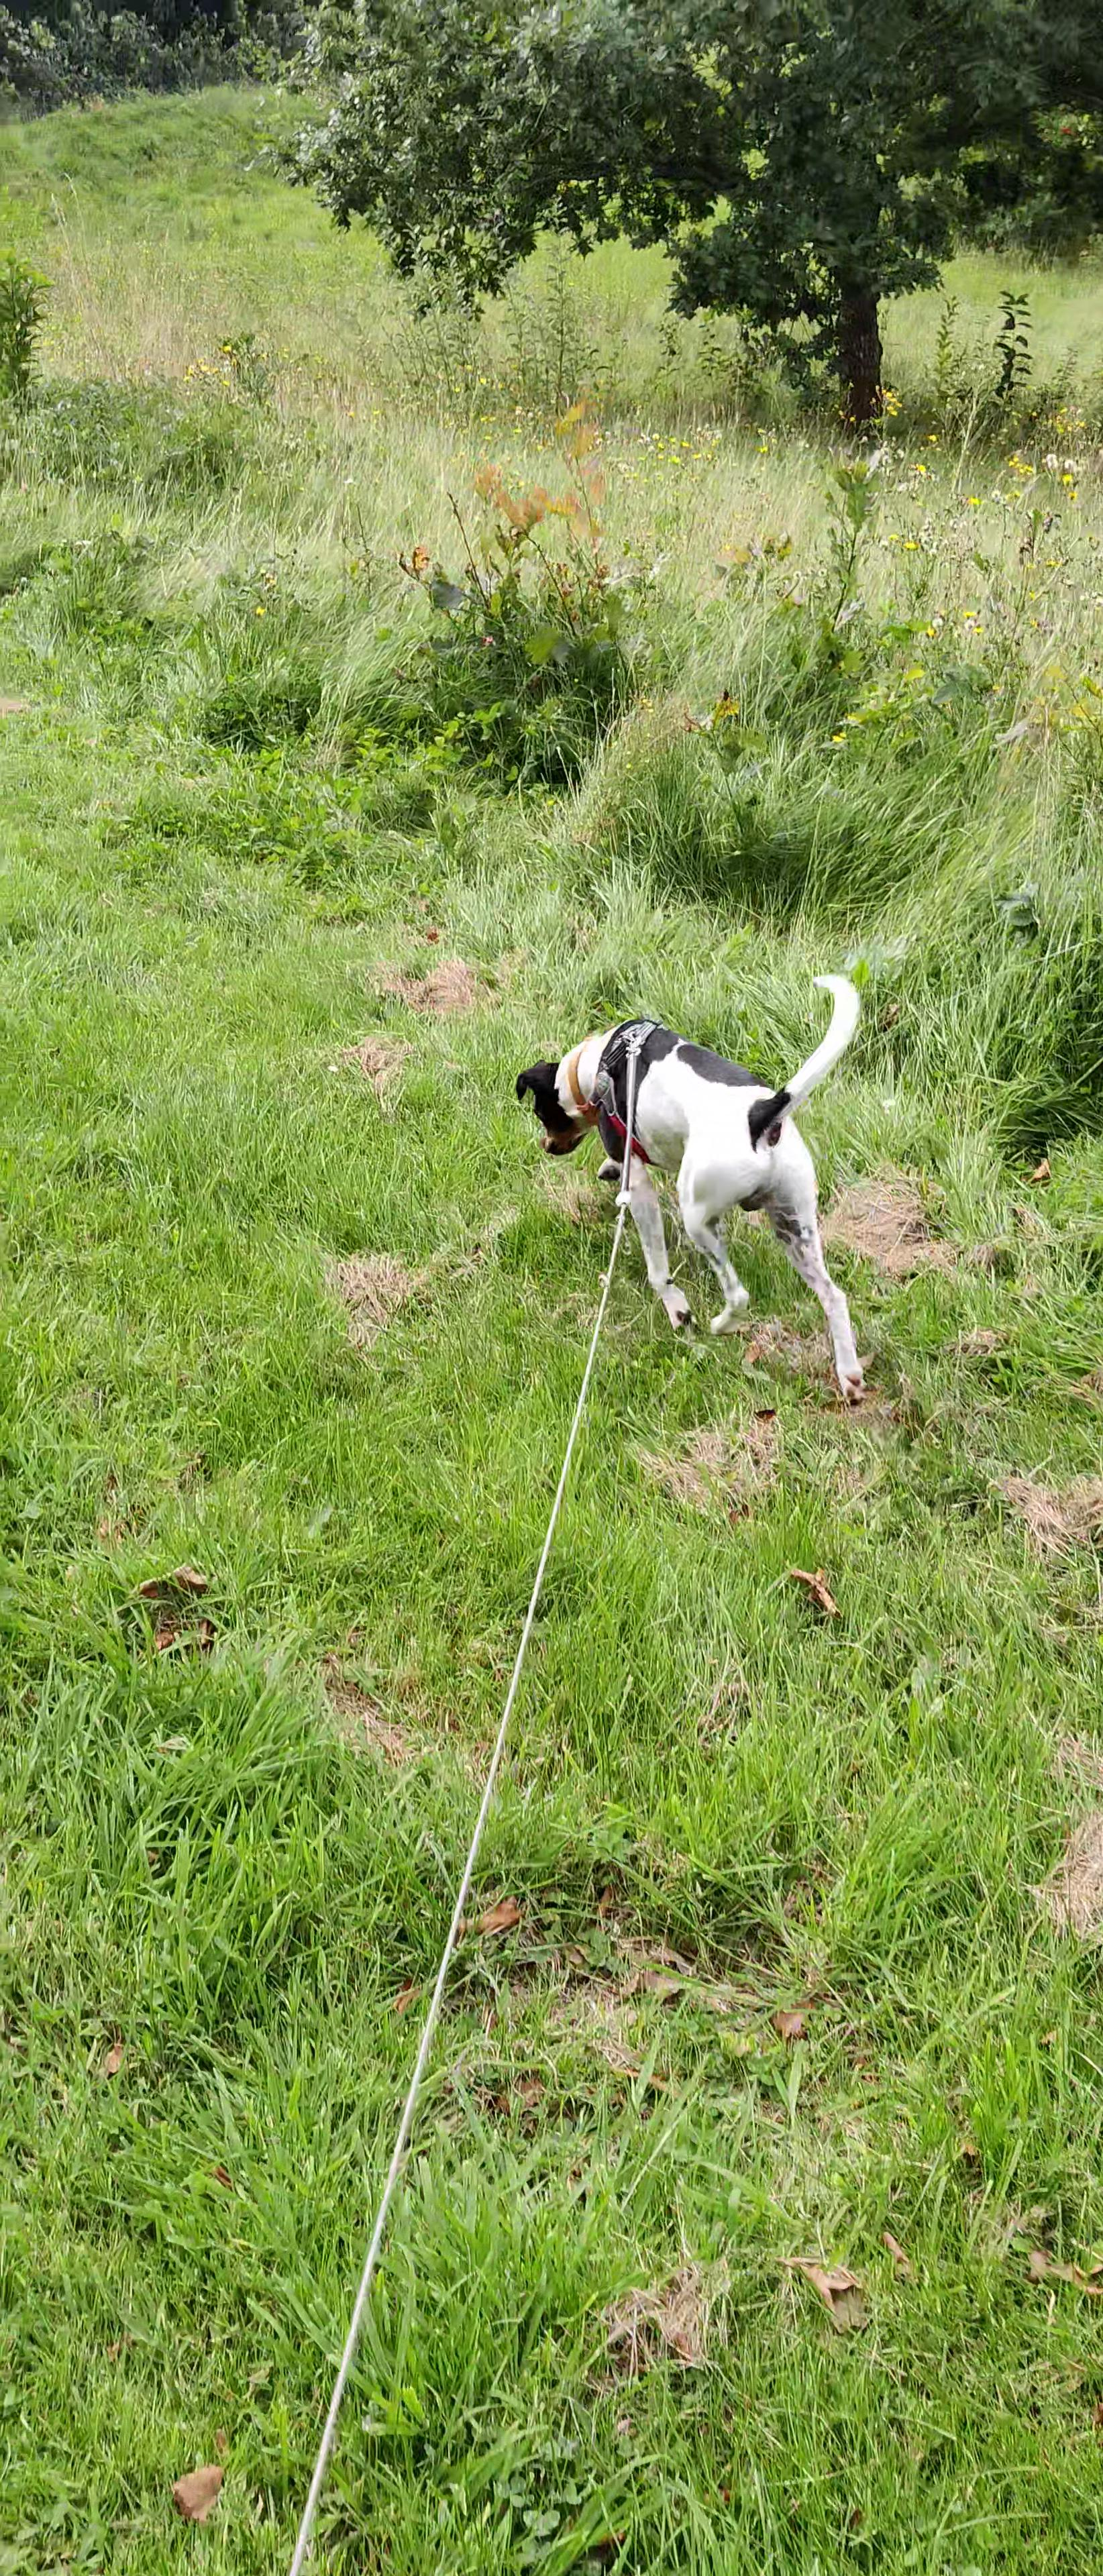Dog: (496, 930, 884, 1436)
